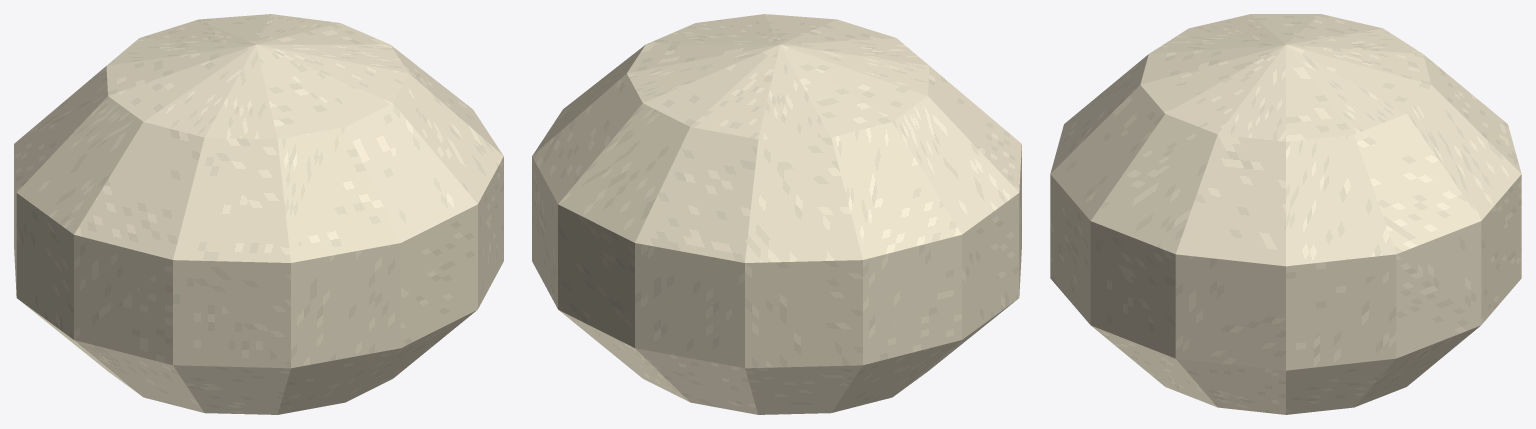
Rendered from mozzarella_cheese.glb.
The picture shows the model from 3 angles, left to right: view 1: azimuth 30°, elevation 25°; view 2: azimuth 150°, elevation 25°; view 3: azimuth 270°, elevation 25°; orthographic projection.
Visible parts, largest first — view 1: block_ball of mozzarella; view 2: block_ball of mozzarella; view 3: block_ball of mozzarella.
Boxes of the visible parts, box(x1,y1,x2,y2) form: block_ball of mozzarella: box(14, 14, 503, 414); block_ball of mozzarella: box(532, 14, 1021, 414); block_ball of mozzarella: box(1050, 14, 1521, 414).
Bounding box in the file's own units: 0.1203 × 0.0915 × 0.1158.
Materials: 1 (1 with a texture image).
